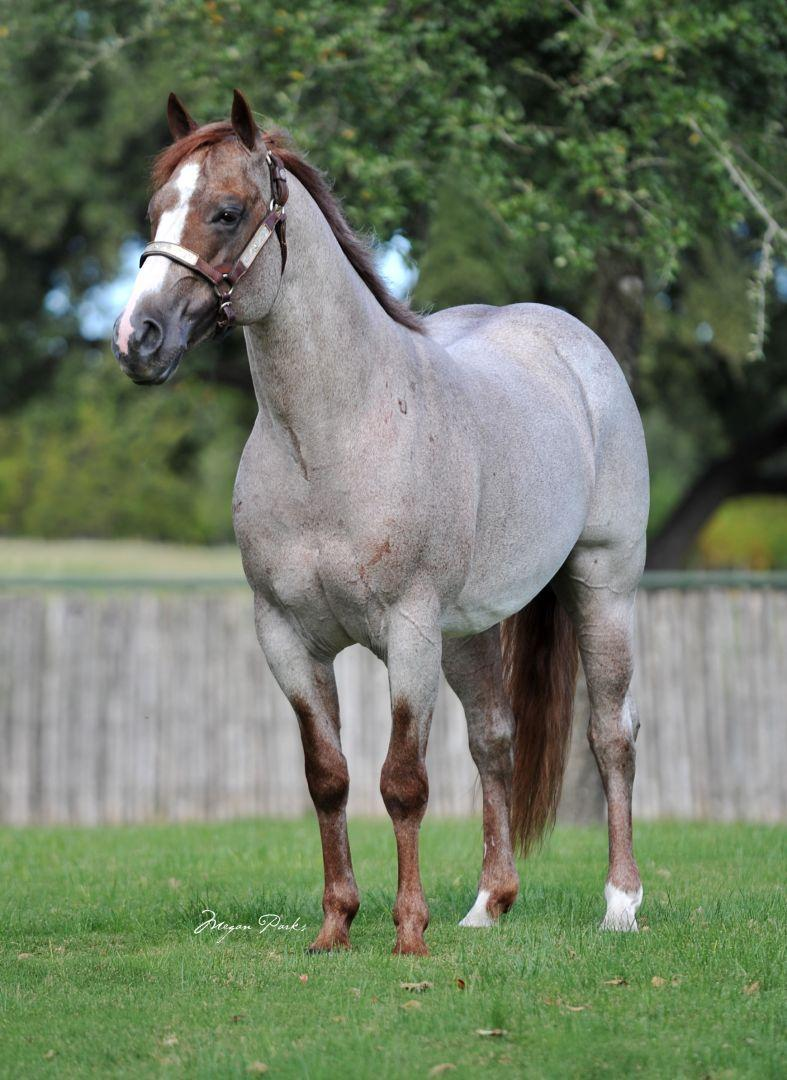horse: (102, 74, 663, 970)
